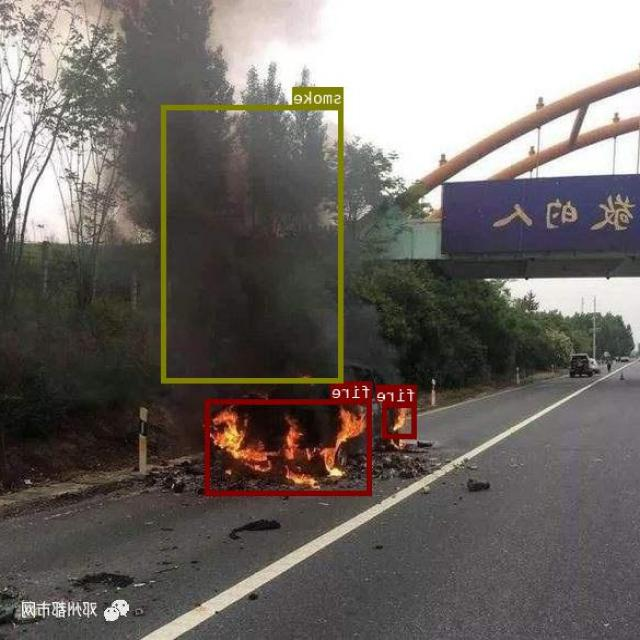fire: (206, 398, 372, 495), (383, 402, 418, 437)
smoke: (162, 104, 344, 382)
